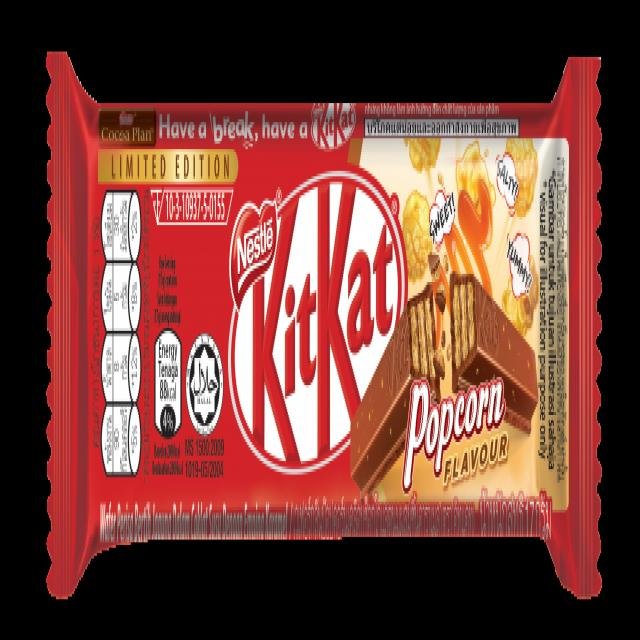kitkat: (46, 62, 599, 599)
